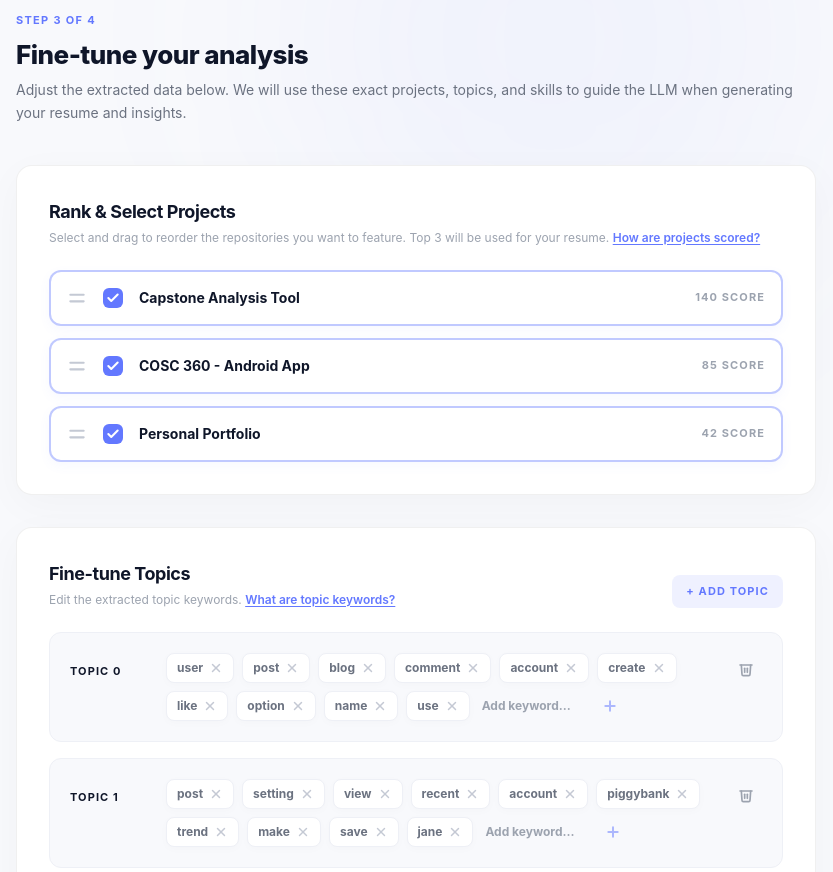
Test case: FinetunePage — topics fine-tuning › deletes an entire topic row
Click the button titled "Delete Topic Row" next to "create" at point(746, 668), box [730,652,762,684]
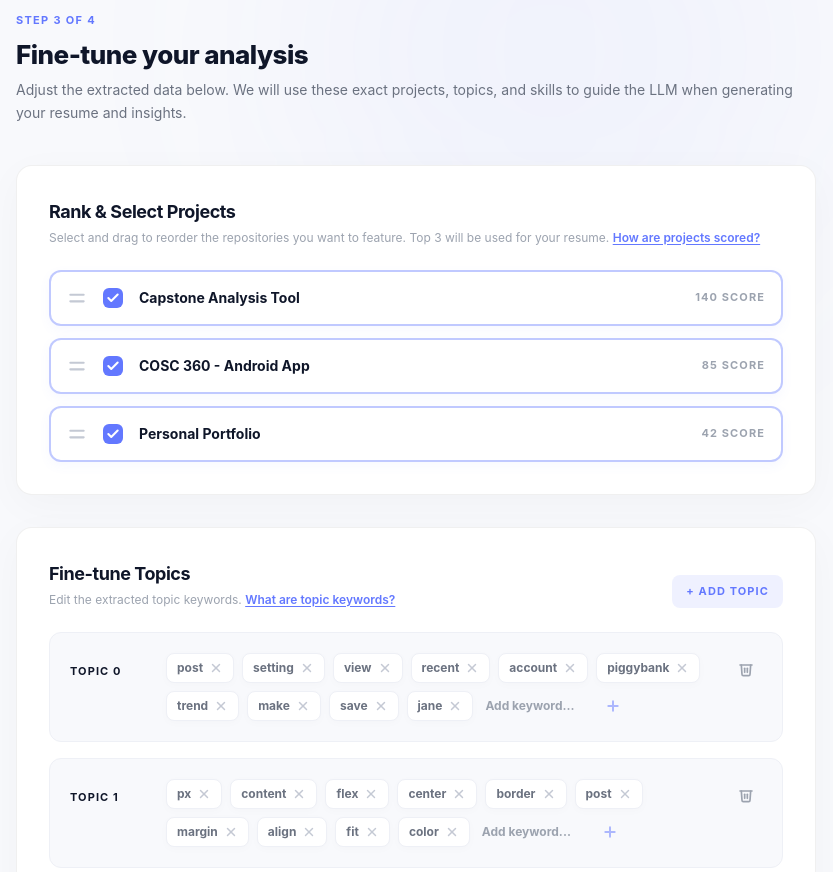
Result: the number of fields with placeholder "Add keyword..." is 4
